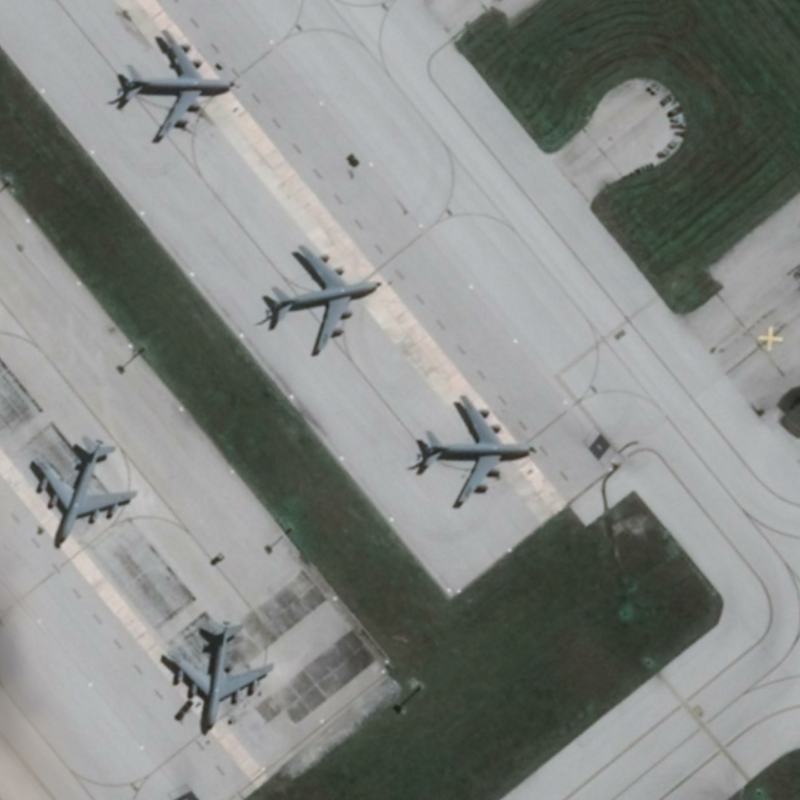A14: (156, 614, 275, 734), (269, 238, 383, 360), (119, 26, 235, 145), (27, 431, 140, 551), (420, 393, 535, 508)
